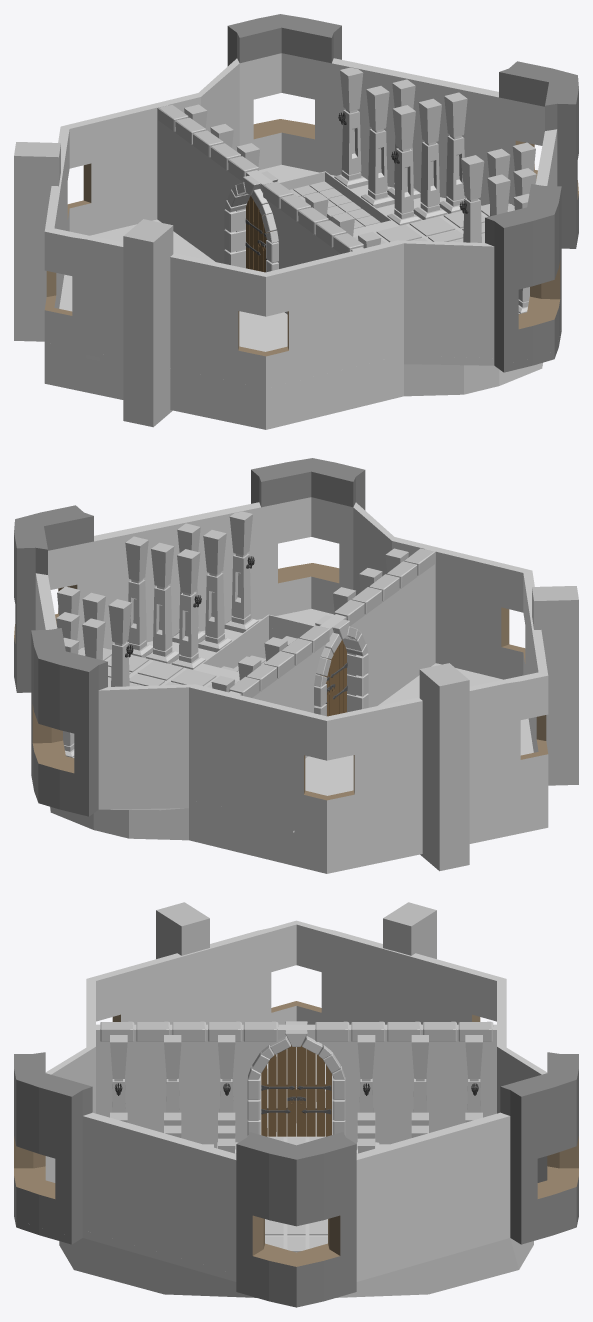
The model's file is secondfloor.fbx.
The picture shows the model from 3 angles, top to bottom: view 1: azimuth 30°, elevation 25°; view 2: azimuth 150°, elevation 25°; view 3: azimuth 270°, elevation 25°; orthographic projection. The views are drawn at different scales.
Parts seen in each view (by area): view 1: SecondFloor, WALL3, WALL1, WALL2, lvl8; view 2: SecondFloor, WALL3, WALL2, WALL1; view 3: SecondFloor, WALL1, WALL2, WALL3.
Part boxes in pixels (box(x1,y1,x2,y2)): SecondFloor: box(44, 67, 542, 429); WALL3: box(14, 126, 265, 429); WALL1: box(198, 14, 577, 205); WALL2: box(397, 75, 578, 372); lvl8: box(290, 181, 380, 229); SecondFloor: box(50, 511, 547, 873); WALL3: box(327, 570, 578, 873); WALL2: box(15, 458, 394, 649); WALL1: box(14, 519, 195, 816); SecondFloor: box(59, 979, 533, 1297); WALL1: box(296, 1046, 578, 1307); WALL2: box(14, 1046, 296, 1307); WALL3: box(87, 902, 505, 1024).
Bounding box in the file's own units: 329 × 109 × 295.
